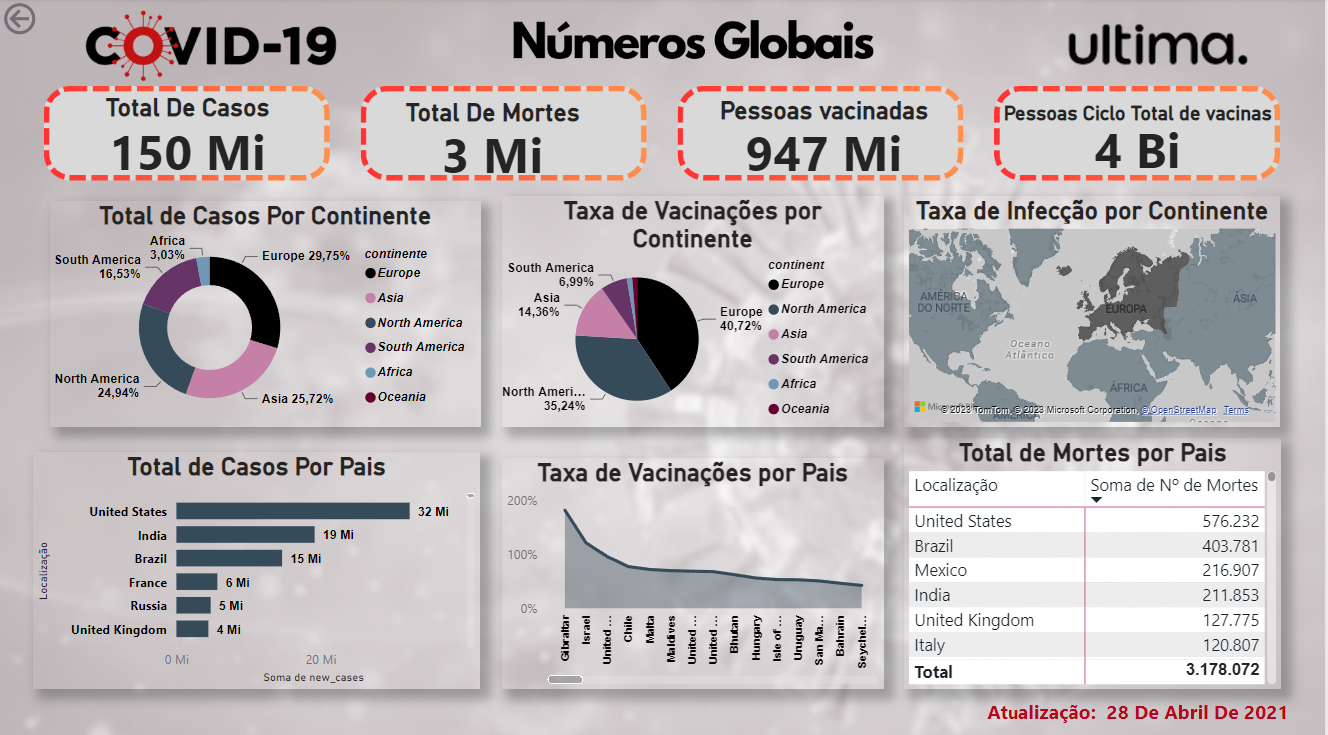

The dashboard page shown, as its layout file describes it:
{"tool":"powerbi","page":{"name":"Página 1","canvas":[1280,720],"ordinal":0},"visuals":[{"type":"actionButton","box":[0,0,100,40],"z":0},{"type":"donutChart","title":"Total de Casos Por Continente ","fields":{"Category":["DcovidDeaths_Projeto_PBI.continent"],"Y":["Sum(FcovidDeaths_Projeto_PBI.new_cases)"]},"box":[49.4,195.4,414.9,218.3],"z":1000},{"type":"clusteredBarChart","title":"Total de Casos Por Pais ","fields":{"Y":["Sum(FcovidDeaths_Projeto_PBI.new_cases)"],"Category":["DcovidDeaths_Projeto_PBI.location"]},"box":[32.6,437.8,431.8,229.1],"z":2000},{"type":"card","title":"Total De Casos","fields":{"Values":["Sum(FcovidDeaths_Projeto_PBI.new_cases)"]},"box":[50,92,265,84],"z":3000},{"type":"card","title":"Total De Mortes ","fields":{"Values":["Sum(FcovidDeaths_Projeto_PBI.new_deaths)"]},"box":[326.8,96.5,299.1,79.6],"z":4000},{"type":"card","title":"Pessoas vacinadas","fields":{"Values":["Sum(FcovidDeaths_Projeto_PBI.new_vaccinations)"]},"box":[656.1,94.1,279.8,79.6],"z":5000},{"type":"card","title":"Pessoas Ciclo Total de vacinas ","fields":{"Values":["FcovidDeaths_Projeto_PBI.Pessoas_Totalmente_vacinadas"]},"box":[961.2,100.1,275,68.7],"z":6000},{"type":"textbox","box":[913,653.7,366.6,53.1],"z":7000},{"type":"filledMap","title":"Taxa de Infecção por Continente","fields":{"Category":["DcovidDeaths_Projeto_PBI.continent"]},"box":[873.2,190.6,363,223.1],"z":8000},{"type":"pivotTable","title":"Total de Mortes por Pais ","fields":{"Rows":["DcovidDeaths_Projeto_PBI.location"],"Values":["Sum(FcovidDeaths_Projeto_PBI.new_deaths)"]},"box":[873.2,424.5,364.2,242.4],"z":9000},{"type":"pieChart","title":"Taxa de Vacinações por Continente","fields":{"Category":["DcovidDeaths_Projeto_PBI.continent"],"Y":["FcovidDeaths_Projeto_PBI.Taxa de Vacinação"]},"box":[484.8,190.6,369,223.1],"z":10000},{"type":"stackedAreaChart","title":"Taxa de Vacinações por Pais","fields":{"Category":["DcovidDeaths_Projeto_PBI.Localização"],"Y":["FcovidDeaths_Projeto_PBI.Taxa de Vacinação"]},"box":[484.8,443.8,369,223.1],"z":11000}]}

Visuals, with their boxes in screenshot pixels (x1, y1, x2, y2), scaled from the page's 1280x720 canvas onto the 1328x735 screenshot:
actionButton: bbox(0, 0, 104, 41)
"Total de Casos Por Continente " donutChart: bbox(51, 199, 482, 422)
"Total de Casos Por Pais " clusteredBarChart: bbox(34, 447, 482, 681)
"Total De Casos" card: bbox(52, 94, 327, 180)
"Total De Mortes " card: bbox(339, 99, 649, 180)
"Pessoas vacinadas" card: bbox(681, 96, 971, 177)
"Pessoas Ciclo Total de vacinas " card: bbox(997, 102, 1283, 172)
textbox: bbox(947, 667, 1327, 722)
"Taxa de Infecção por Continente" filledMap: bbox(906, 195, 1283, 422)
"Total de Mortes por Pais " pivotTable: bbox(906, 433, 1284, 681)
"Taxa de Vacinações por Continente" pieChart: bbox(503, 195, 886, 422)
"Taxa de Vacinações por Pais" stackedAreaChart: bbox(503, 453, 886, 681)
